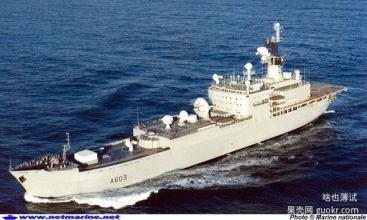warship: (8, 31, 350, 200)
